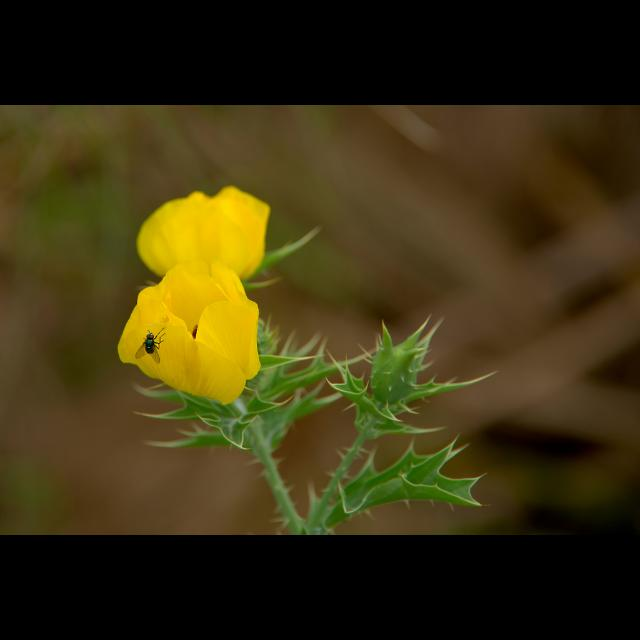Flower: (109, 224, 263, 403), (134, 184, 272, 286)
